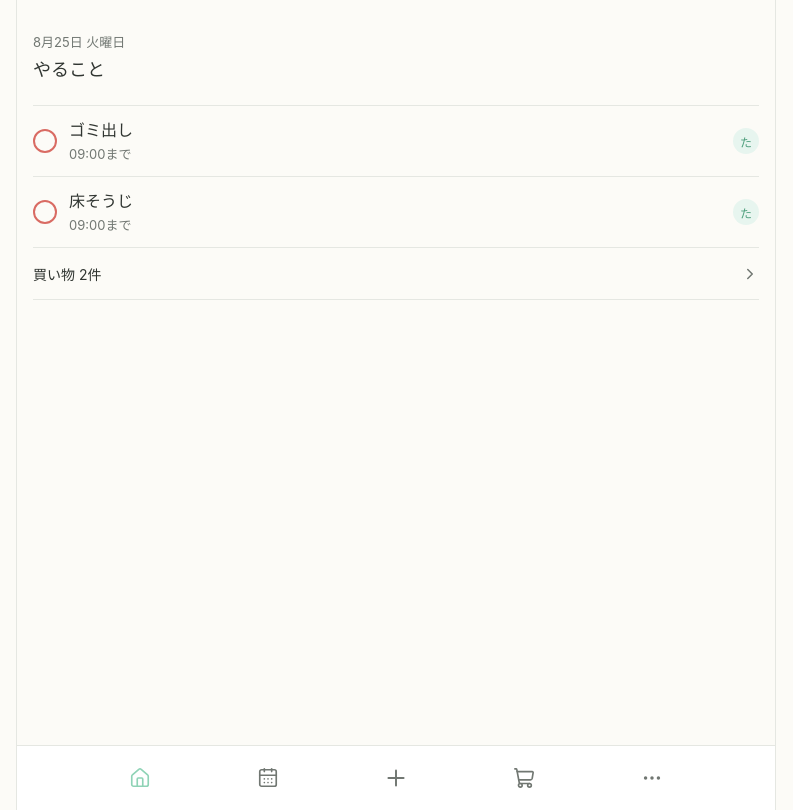
Test: M2 Home › expands only one Home task detail at a time
Click the button with aria-label "ゴミ出しの詳細" at (101, 130), box [33,106,759,176]
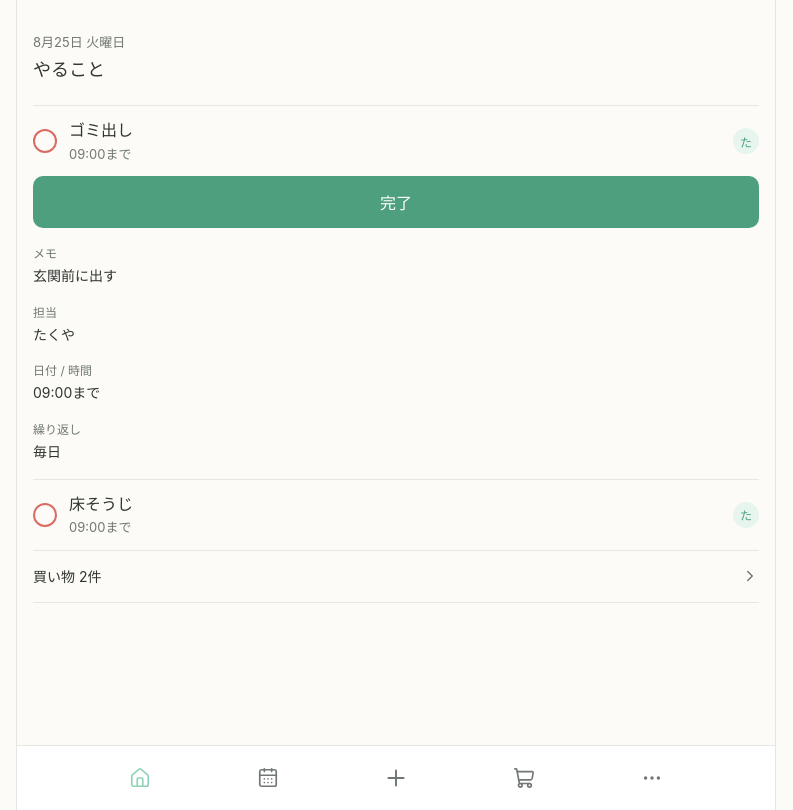
expect the element with class "m2-home__row" has class "is-expanded": met, box [33,106,759,480]
Click the button with aria-label "床そうじの詳細" at (101, 504), box [33,480,759,550]
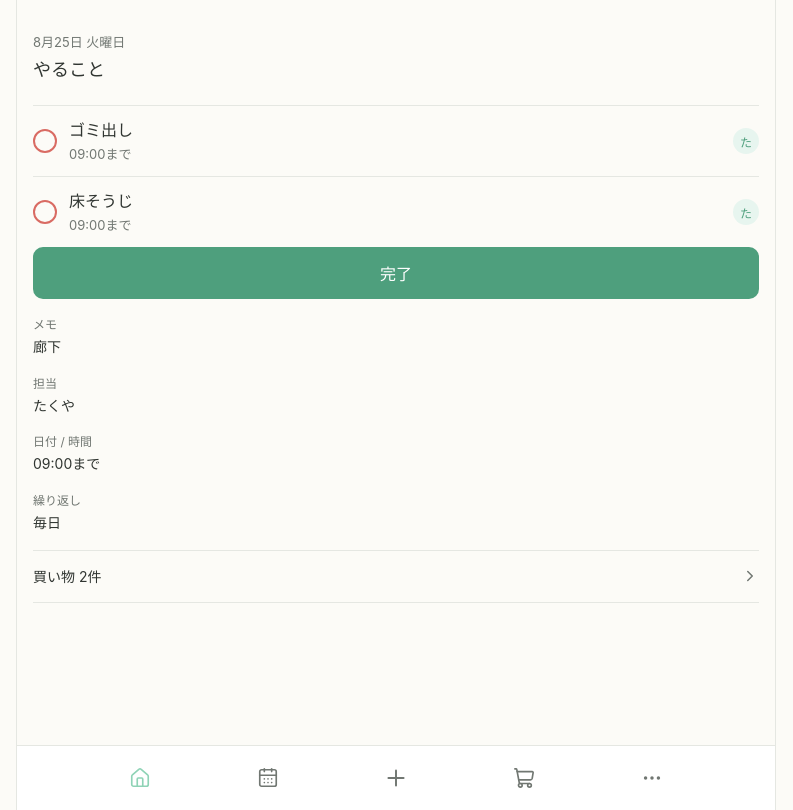
expect the element with class "m2-home__row" has class "is-expanded": met, box [33,177,759,551]
